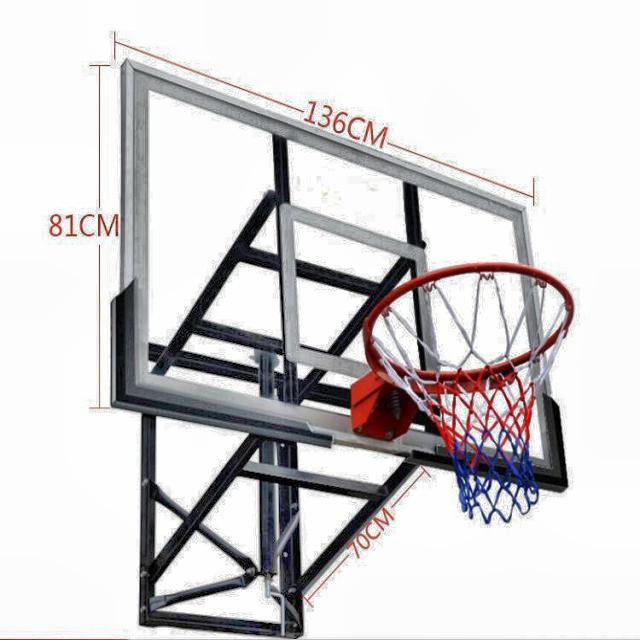rim: (364, 261, 575, 521)
